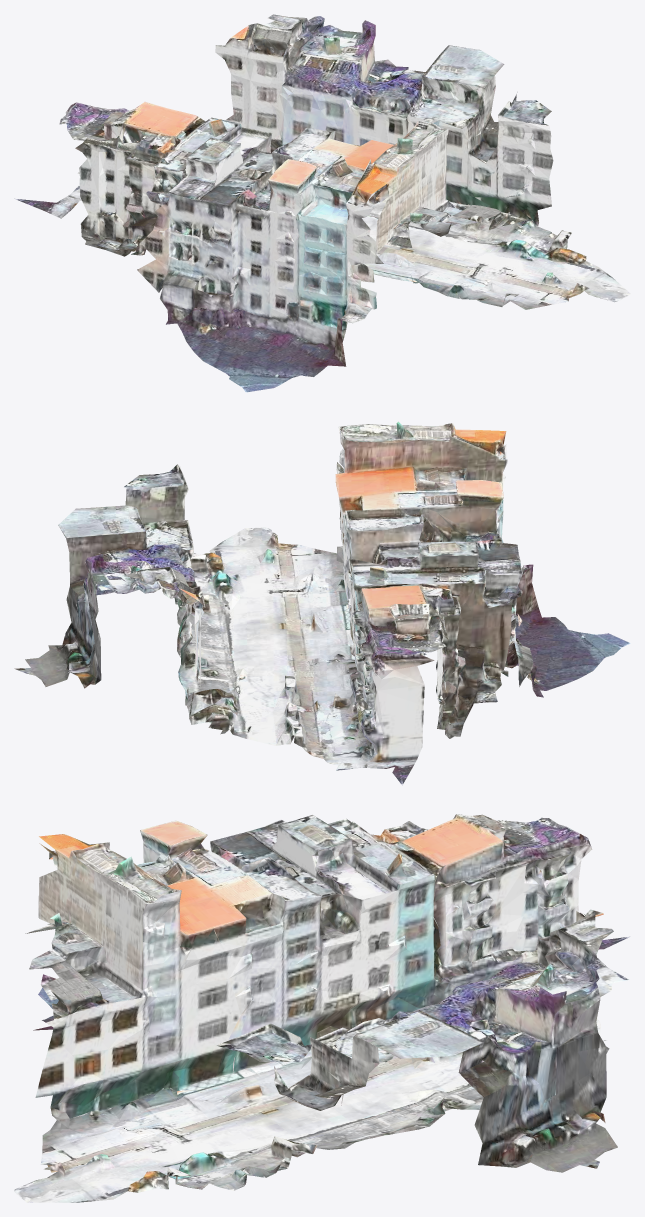
File: Tile_+011_+018_L19_000013.glb
3 views of the same model, one above another, from view 1: azimuth 30°, elevation 25°; view 2: azimuth 150°, elevation 25°; view 3: azimuth 270°, elevation 25° (orthographic). The views are drawn at different scales.
Visible parts, largest first — view 1: rtc; view 2: rtc; view 3: rtc.
Part boxes in pixels (bbox=[...]): rtc: bbox=[14, 14, 630, 392]; rtc: bbox=[14, 421, 630, 785]; rtc: bbox=[14, 814, 629, 1202].
Bounding box in the file's own units: 57.02 × 24.94 × 57.89.
1 material, 1 textured.
